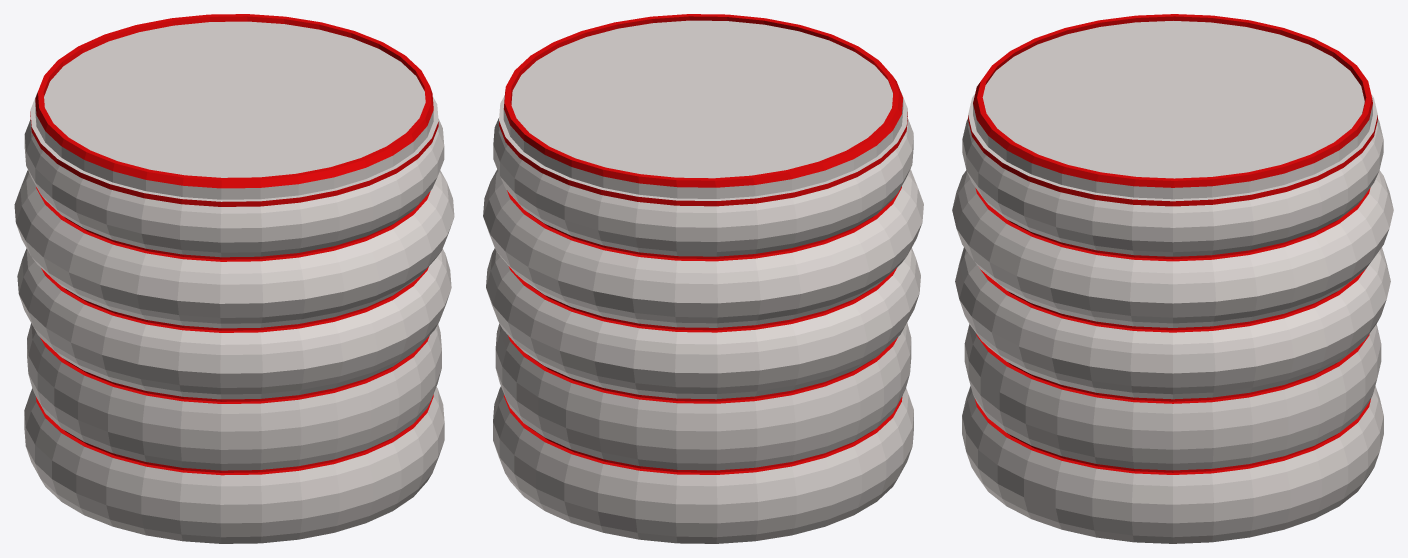
Rendered from SM_Barrel_1M.fbx.
3 renders of one model, left to right at view 1: azimuth 30°, elevation 25°; view 2: azimuth 150°, elevation 25°; view 3: azimuth 270°, elevation 25°, orthographic.
Parts seen in each view (by area): view 1: Cylinder.001; view 2: Cylinder.001; view 3: Cylinder.001.
Part boxes in pixels (x1=…): Cylinder.001: x1=14, y1=14, x2=454, y2=543; Cylinder.001: x1=483, y1=14, x2=923, y2=543; Cylinder.001: x1=952, y1=14, x2=1393, y2=543.
Bounding box in the file's own units: 110 × 99.94 × 110.
